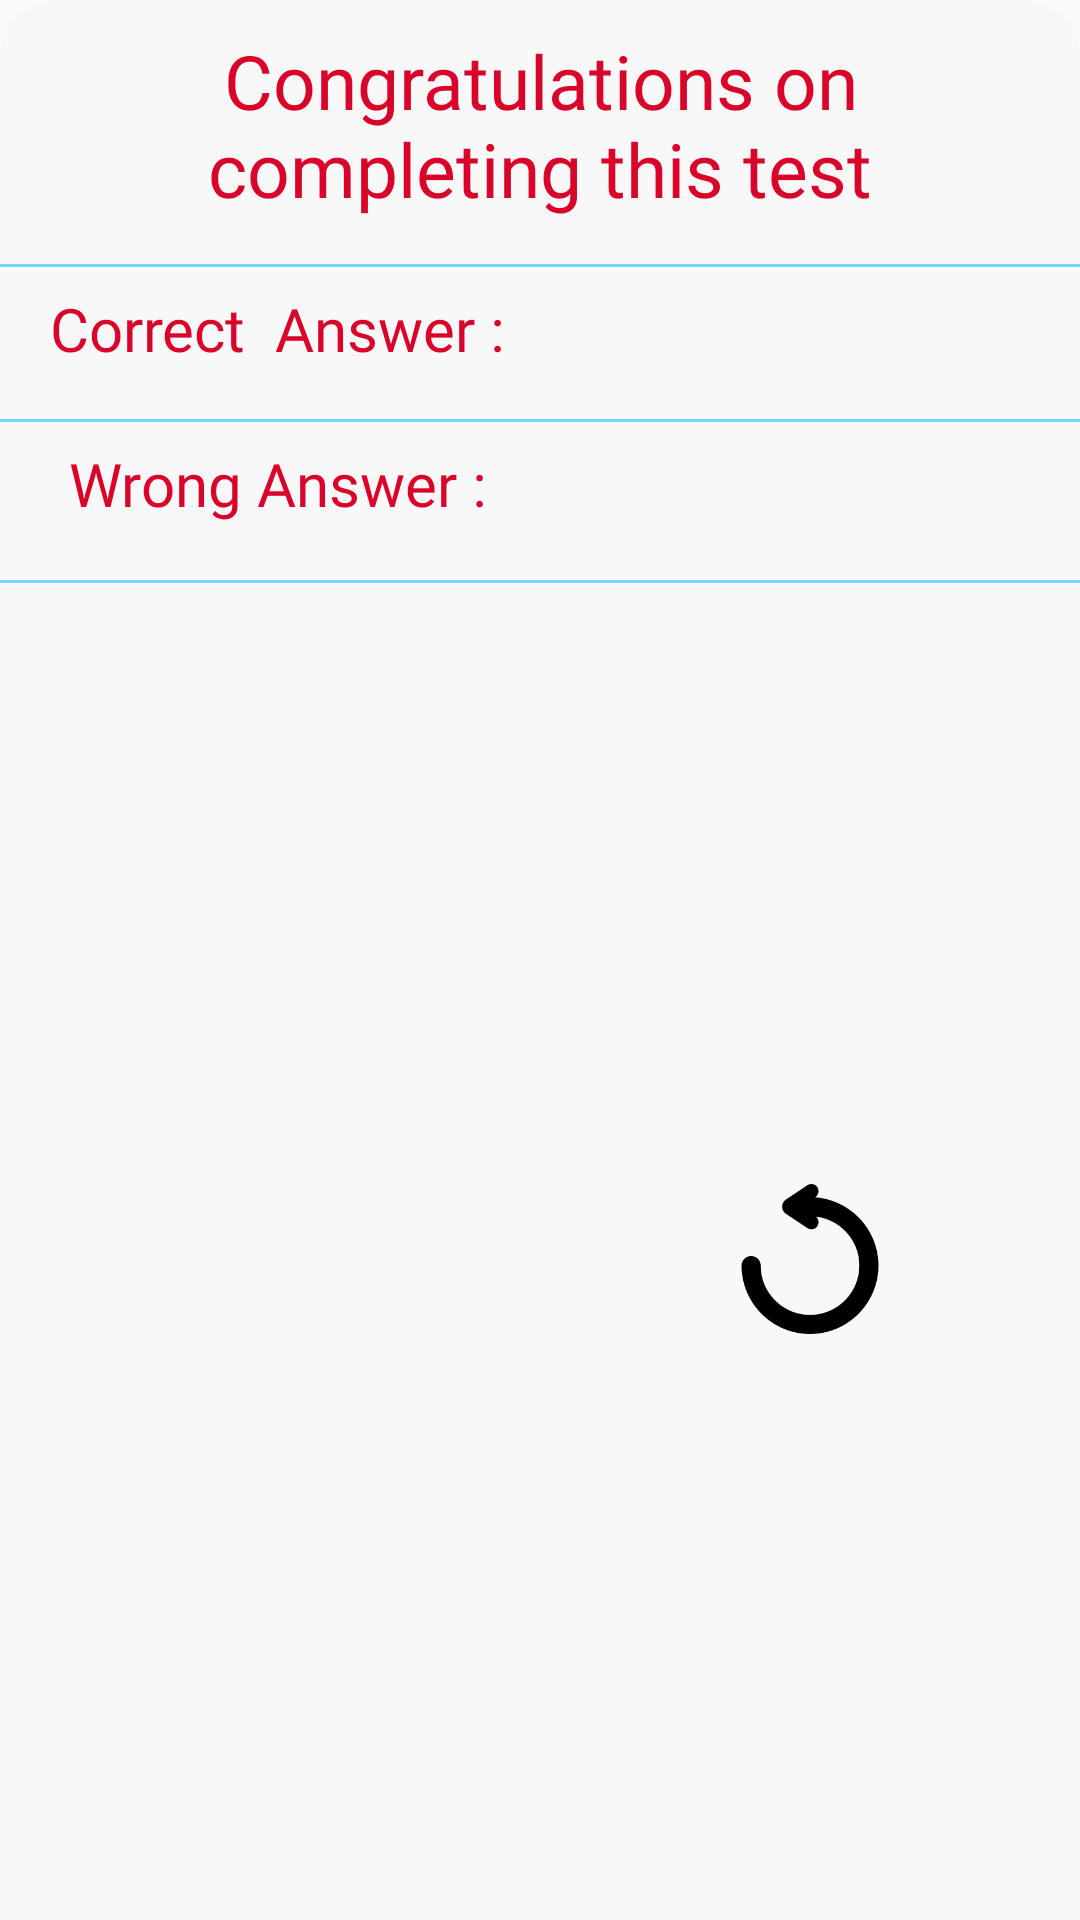

Named icons in this screenshot (1080*1920) and their bounding boxes, (x1, y1, x2, y2):
refreshing: (741, 1184, 879, 1334)
